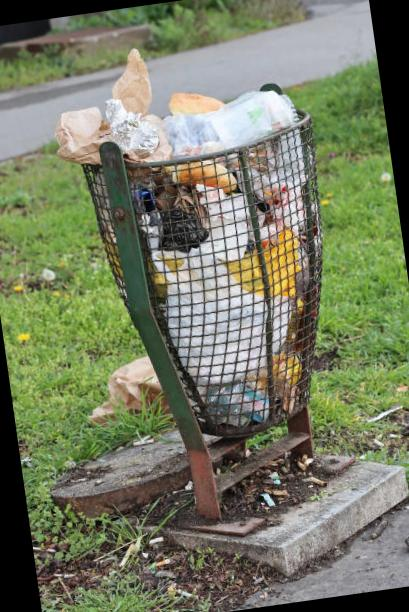trash: (31, 39, 319, 180)
trash_can_overflow: (15, 12, 409, 595)
